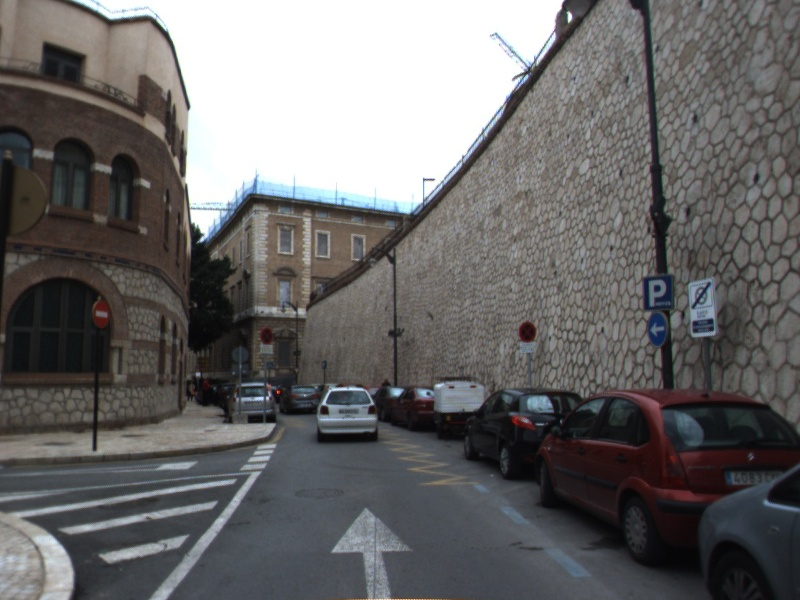STRAIGHT: (329, 506, 415, 600)
